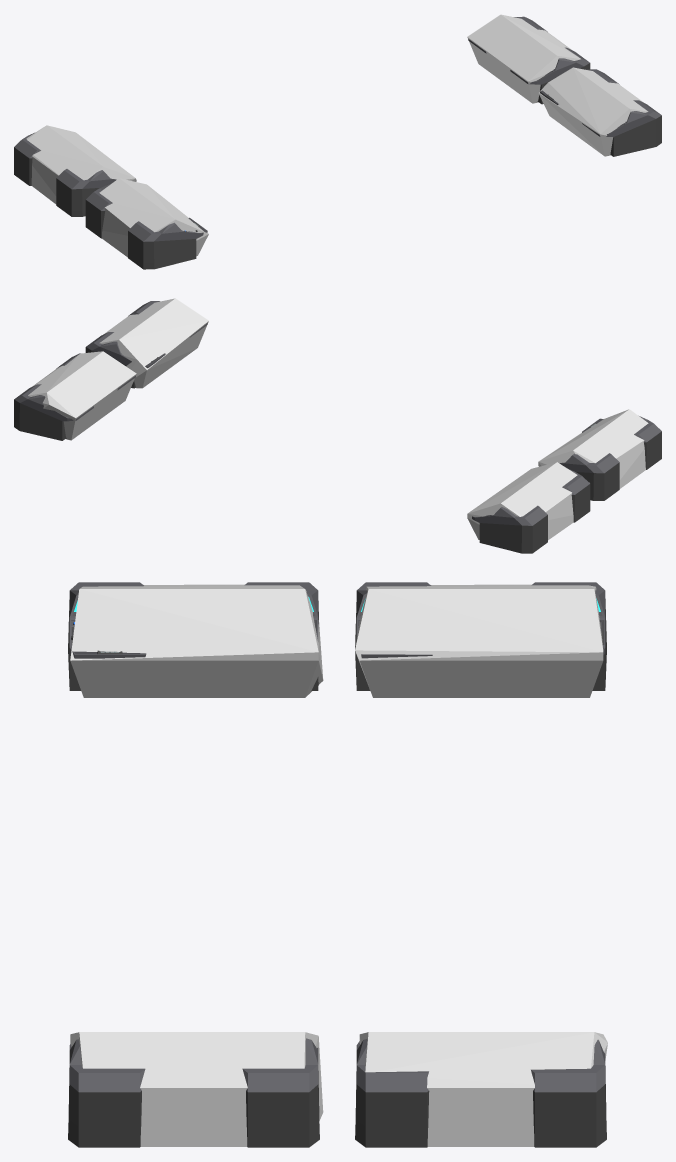
Rendered from SM_Bld_Bridge_Console_01.fbx.
3 renders of one model, top to bottom at view 1: azimuth 30°, elevation 25°; view 2: azimuth 150°, elevation 25°; view 3: azimuth 270°, elevation 25°, orthographic. The views are drawn at different scales.
Parts seen in each view (by area): view 1: SM_Bld_Bridge_Console_01_ConvexHulls, SM_Bld_Bridge_Console_01_LOD0; view 2: SM_Bld_Bridge_Console_01_ConvexHulls, SM_Bld_Bridge_Console_01_LOD0; view 3: SM_Bld_Bridge_Console_01_ConvexHulls, SM_Bld_Bridge_Console_01_LOD0.
Boxes of the visible parts, box(x1,y1,x2,y2) form: SM_Bld_Bridge_Console_01_ConvexHulls: box(26, 14, 648, 257); SM_Bld_Bridge_Console_01_LOD0: box(14, 16, 661, 269); SM_Bld_Bridge_Console_01_ConvexHulls: box(28, 298, 648, 540); SM_Bld_Bridge_Console_01_LOD0: box(14, 301, 661, 553); SM_Bld_Bridge_Console_01_ConvexHulls: box(70, 584, 607, 1146); SM_Bld_Bridge_Console_01_LOD0: box(68, 582, 606, 1147).
Bounding box in the file's own units: 786 × 1742 × 138.
1 material, 1 textured.
